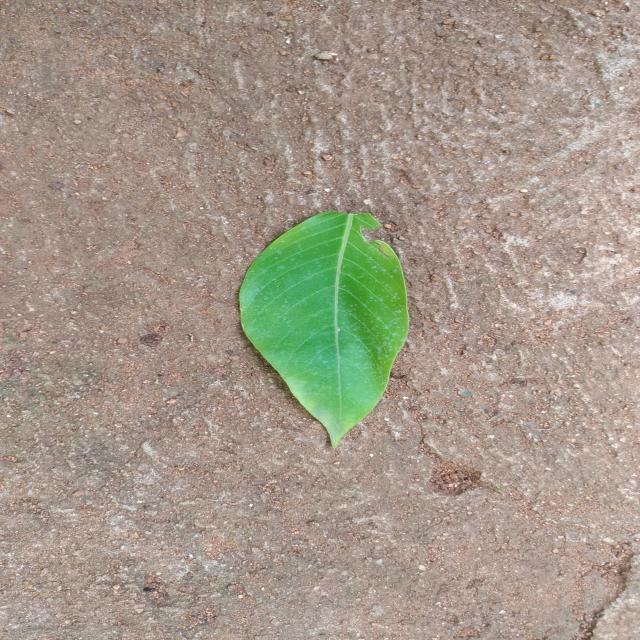malabar_nut: (240, 211, 409, 448)
